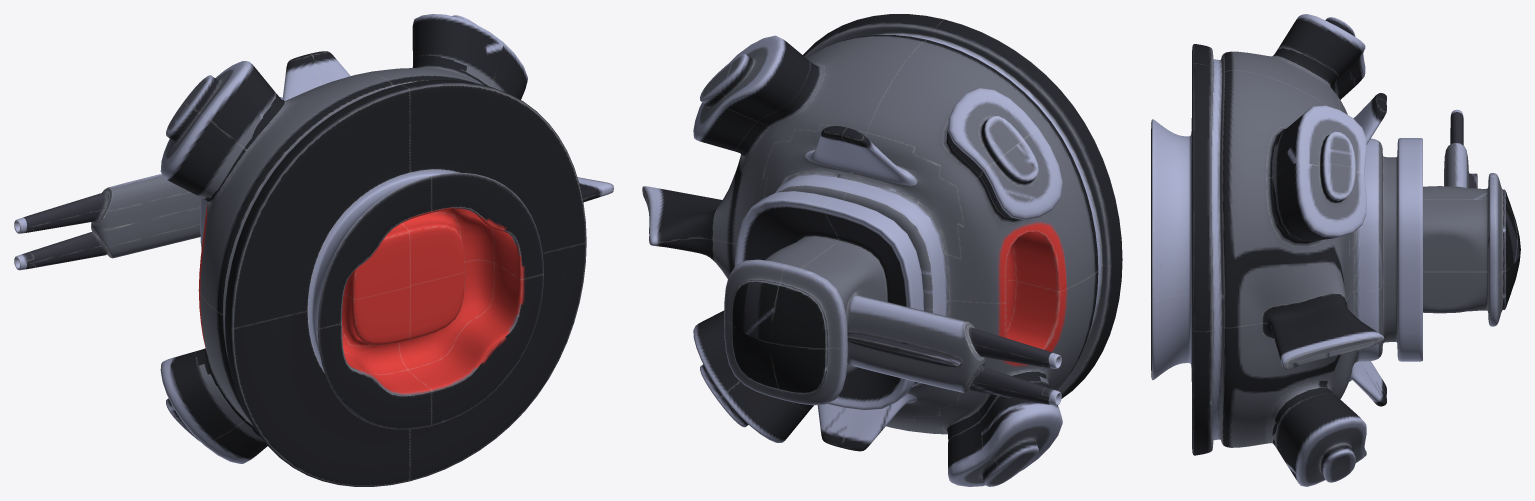
File: nanobot.fbx
3 renders of one model, left to right at view 1: azimuth 30°, elevation 25°; view 2: azimuth 150°, elevation 25°; view 3: azimuth 270°, elevation 25°, orthographic. The views are drawn at different scales.
Visible parts, largest first — view 1: nanobot low poly.005, nanobot low poly.006; view 2: nanobot low poly.005, nanobot low poly.006; view 3: nanobot low poly.005, nanobot low poly.006.
Boxes of the visible parts, bbox=[...] form: nanobot low poly.005: bbox=[91, 14, 613, 486]; nanobot low poly.006: bbox=[14, 192, 106, 270]; nanobot low poly.005: bbox=[642, 14, 1122, 486]; nanobot low poly.006: bbox=[968, 327, 1061, 405]; nanobot low poly.005: bbox=[1151, 14, 1520, 486]; nanobot low poly.006: bbox=[1450, 109, 1463, 145].
Size of the model in its own units: 13.46 by 10.14 by 9.
Materials: 1 (1 with a texture image).
